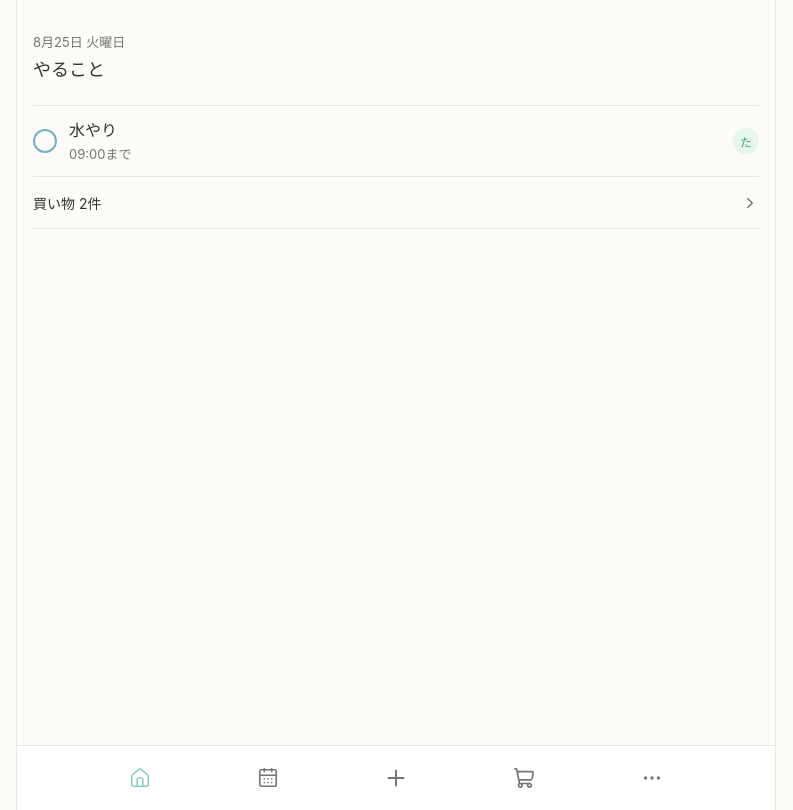
Test: M2 Home › keeps a no-memo task expandable without rendering an empty memo block
The image size is (793, 810).
Click the button with aria-label "水やりの詳細" at {"x": 93, "y": 130}, box [33,106,759,176]
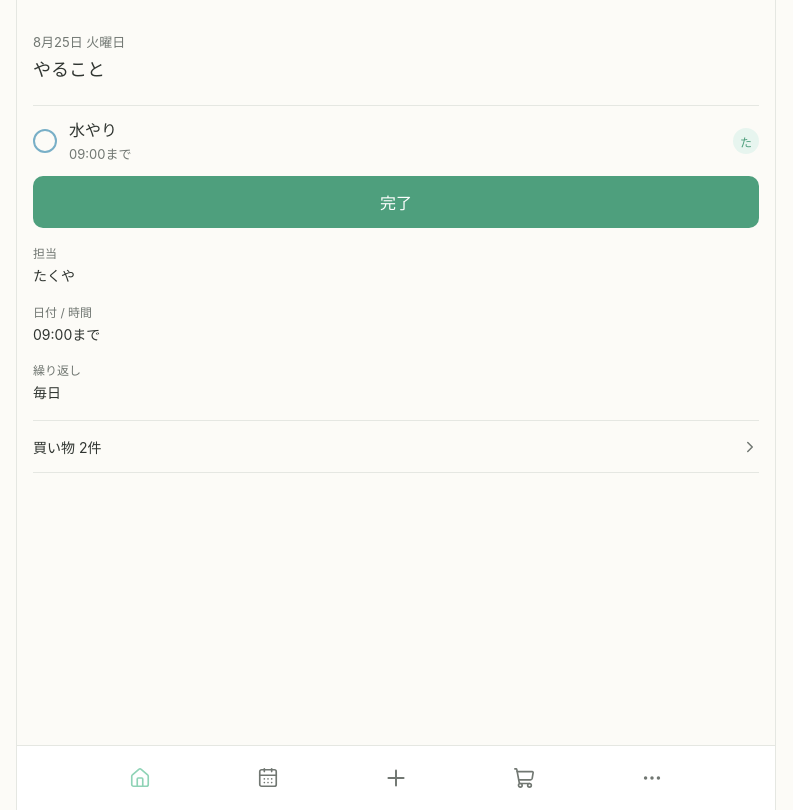
Now the button "完了" is shown, box [33,176,759,228]
